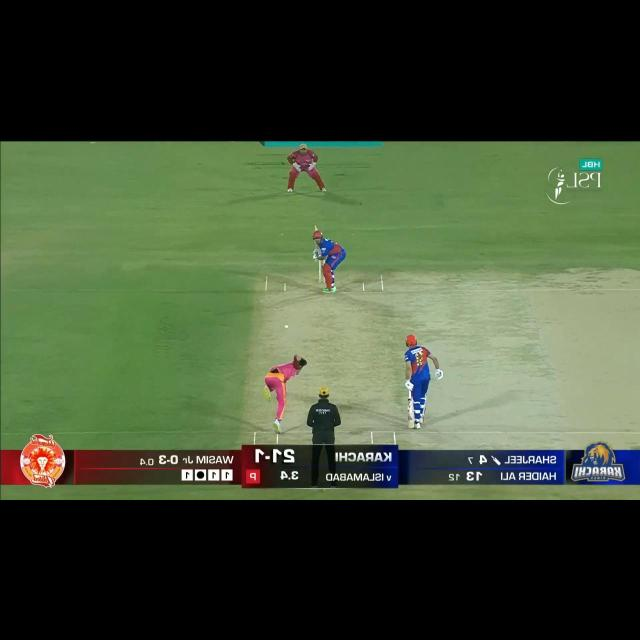bat: (407, 398, 415, 430), (314, 225, 319, 252)
toe: (406, 423, 415, 430), (314, 226, 319, 230)
